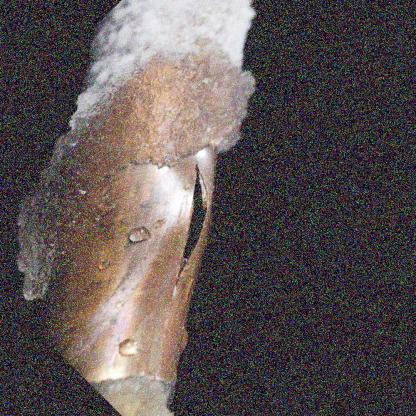burst: (153, 149, 241, 293)
